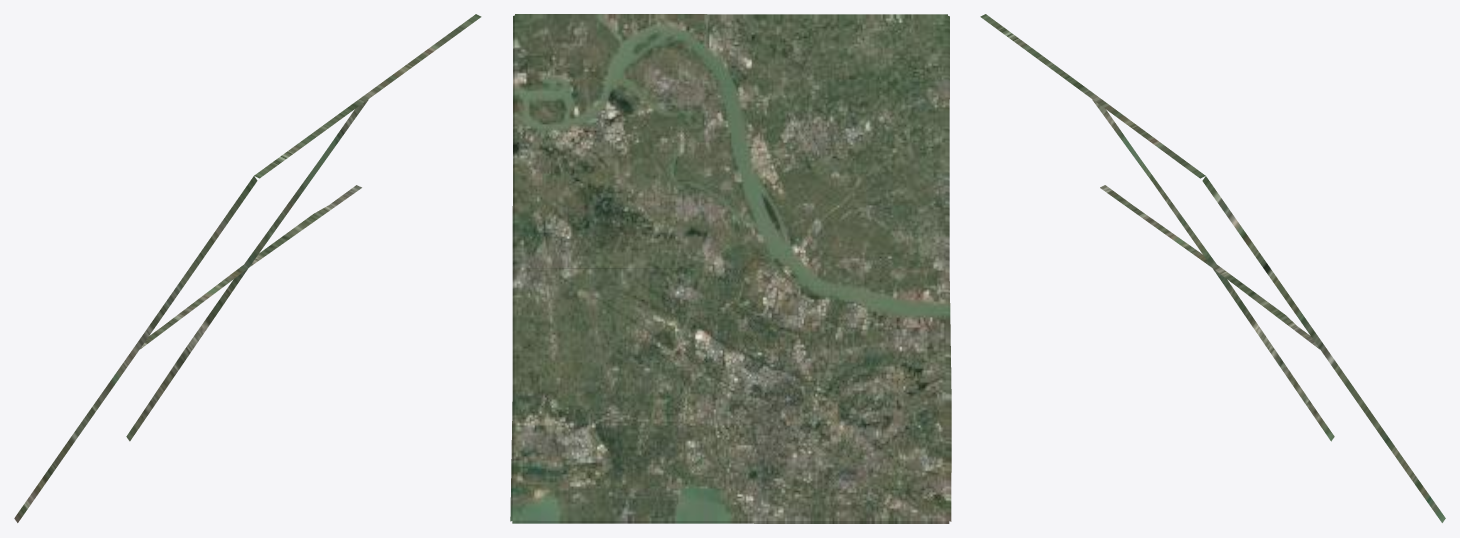
3 views of the same model, side by side, from view 1: azimuth 30°, elevation 25°; view 2: azimuth 150°, elevation 25°; view 3: azimuth 270°, elevation 25° (orthographic). The views are drawn at different scales.
Size of the model in its own units: 79320 by 67195 by 70144.
1 material, 1 textured.
